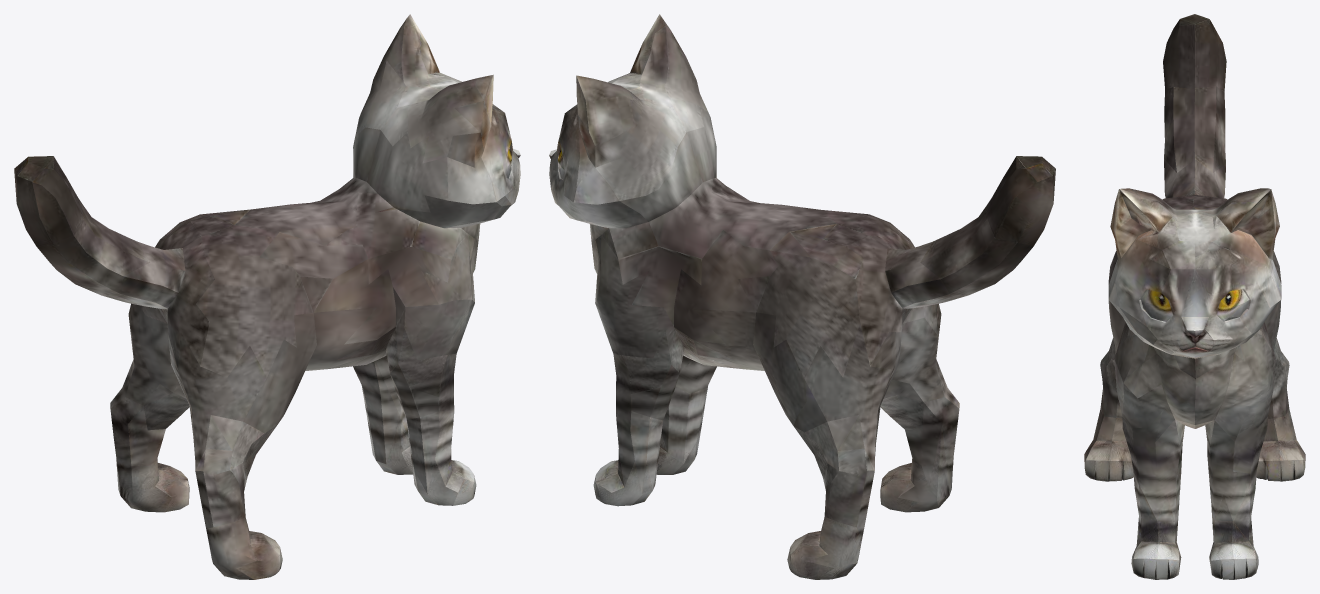
Rendered from GLINTPAW-lo.glb.
3 views of the same model, side by side, from view 1: azimuth 30°, elevation 25°; view 2: azimuth 150°, elevation 25°; view 3: azimuth 270°, elevation 25° (orthographic). The views are drawn at different scales.
Visible parts, largest first — view 1: output_unwrapped; view 2: output_unwrapped; view 3: output_unwrapped.
Part boxes in pixels (<box>): output_unwrapped: <box>14,14,520,579</box>; output_unwrapped: <box>549,14,1055,579</box>; output_unwrapped: <box>1084,14,1305,579</box>.
Bounding box in the file's own units: 1.22 × 1 × 0.5087.
1 material, 1 textured.
